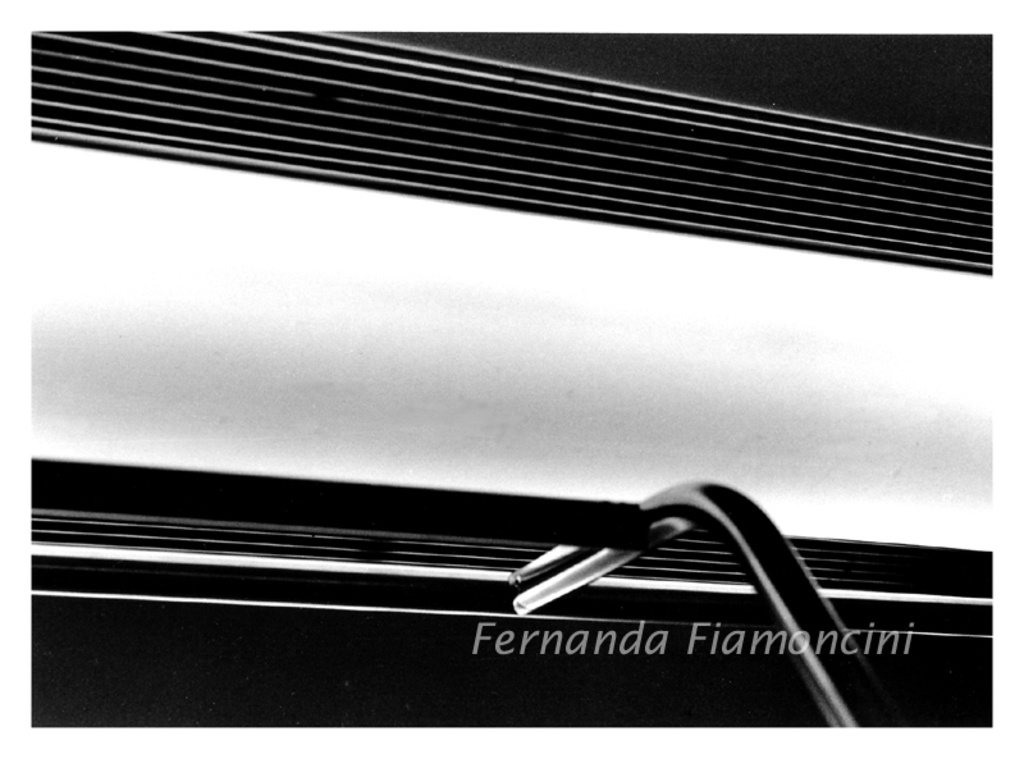Car: (12, 33, 1022, 757)
